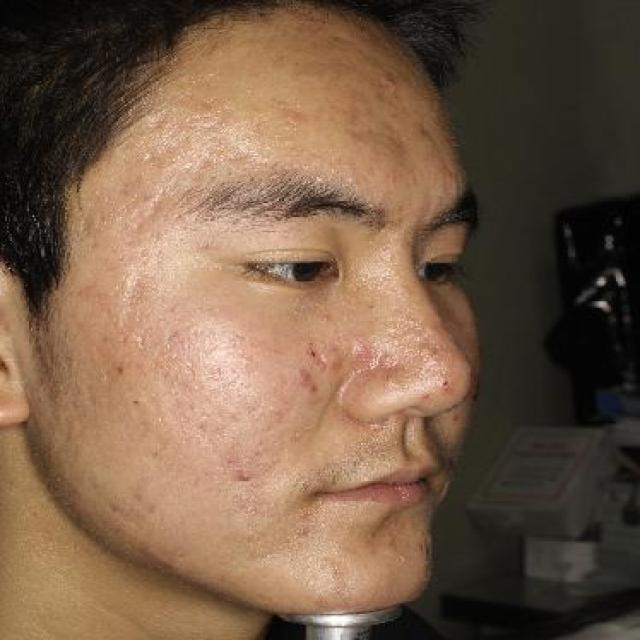blackhead: (298, 335, 327, 363), (291, 368, 315, 383), (361, 300, 378, 312)
darkspot: (220, 446, 259, 489)
